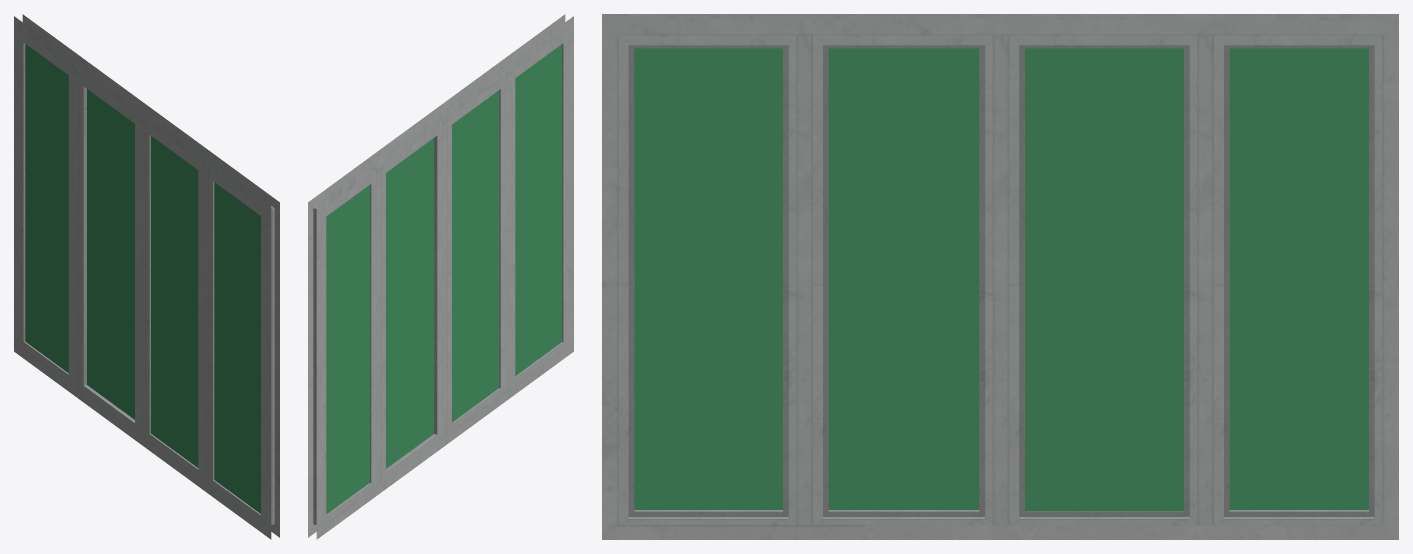
File: WindowPanelC.fbx
The picture shows the model from 3 angles, left to right: view 1: azimuth 30°, elevation 25°; view 2: azimuth 150°, elevation 25°; view 3: azimuth 270°, elevation 25°; orthographic projection. The views are drawn at different scales.
Visible parts, largest first — view 1: Glass, Frame; view 2: Glass, Frame; view 3: Glass, Frame.
Boxes of the visible parts, left/top/right/bottom form: Glass: left=25, top=44, right=260, bottom=513; Frame: left=14, top=14, right=279, bottom=539; Glass: left=326, top=44, right=561, bottom=514; Frame: left=308, top=14, right=573, bottom=539; Glass: left=634, top=48, right=1368, bottom=511; Frame: left=602, top=14, right=1398, bottom=539.
Bounding box in the file's own units: 7.18 × 272 × 379.
